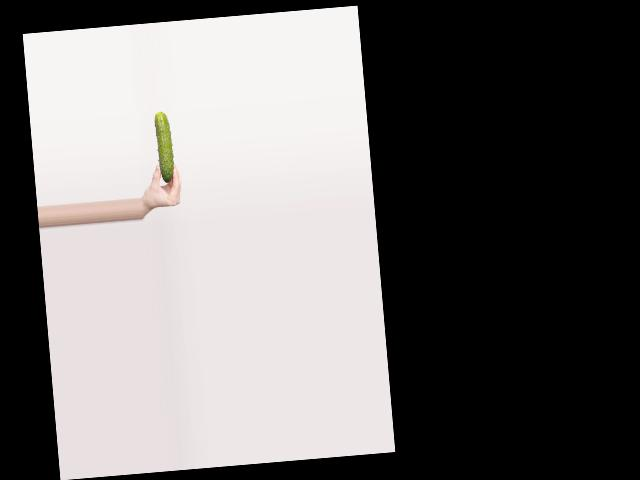cucumber: (154, 111, 175, 183)
